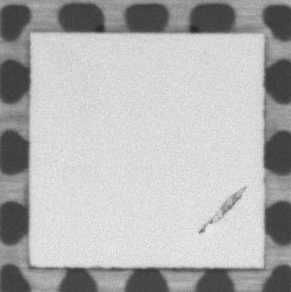DIE_INK: (197, 185, 247, 238)
